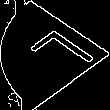L_SE: (14, 26, 96, 84)
